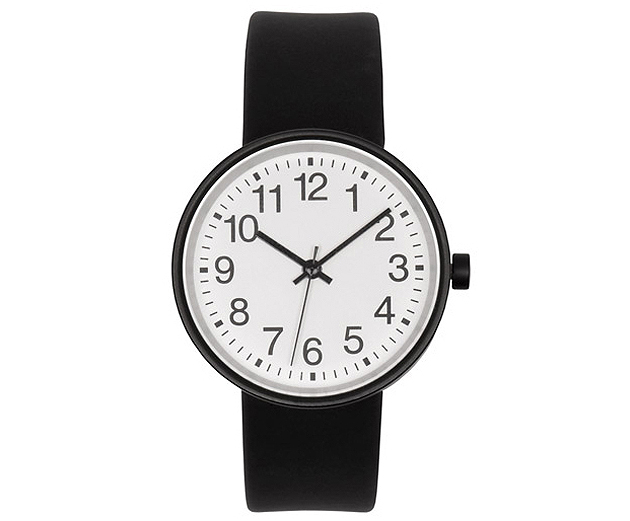clock: (184, 141, 438, 396)
